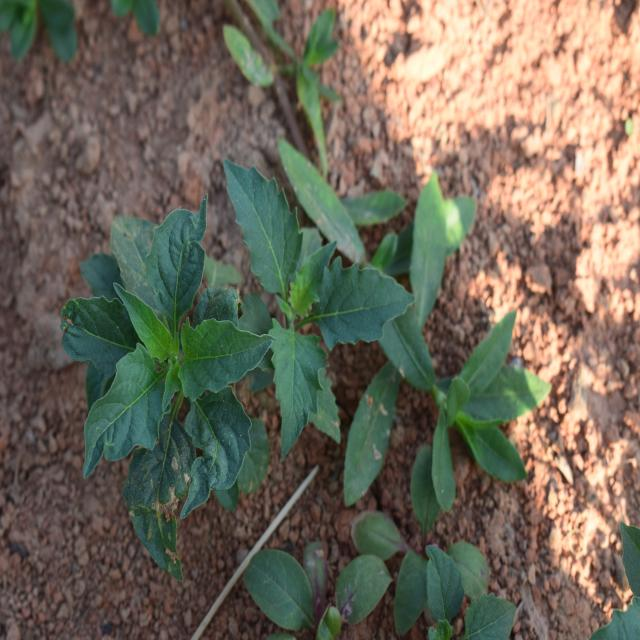Black_nightshade: (66, 192, 240, 488), (227, 146, 388, 452)
